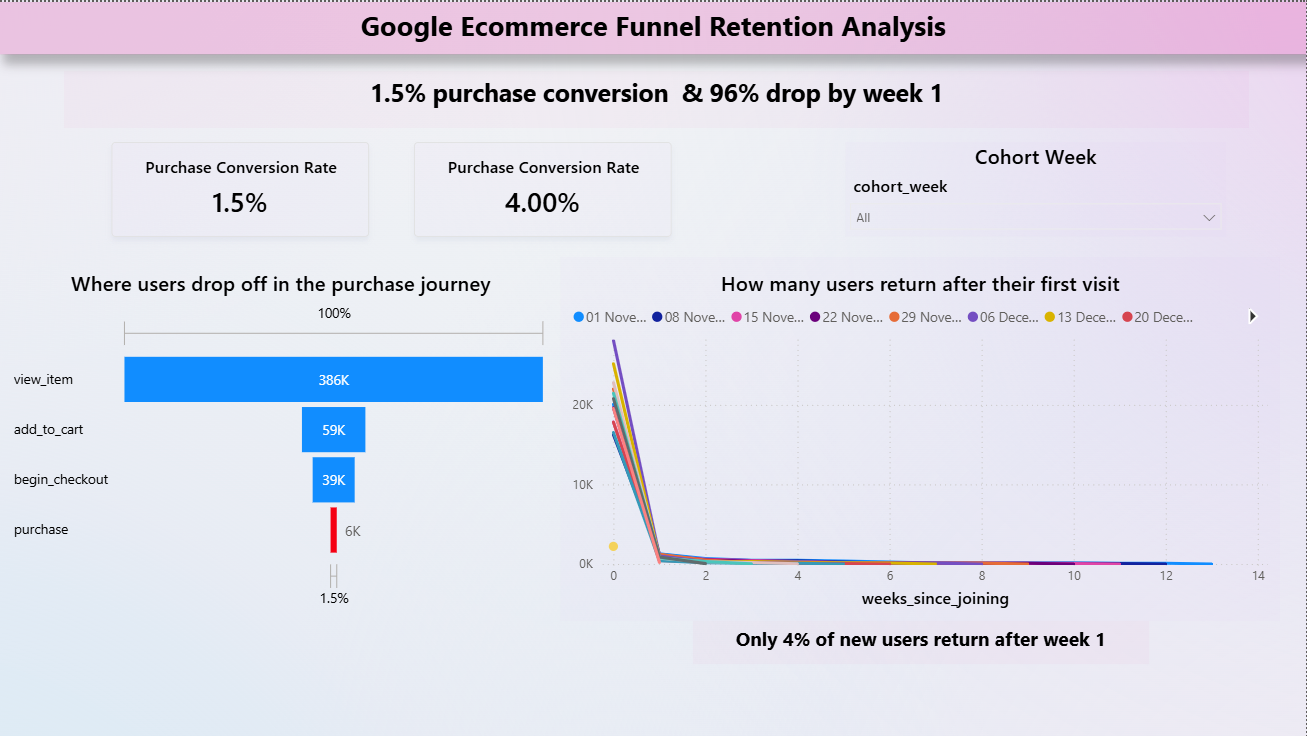

Layout of this report page (visuals, bound fields, positions):
{"tool":"powerbi","page":{"name":"Page 1","canvas":[1280,720],"ordinal":0},"visuals":[{"type":"funnel","title":"Where users drop off in the purchase journey","fields":{"Category":["funnel_results.event_name"],"Y":["Sum(funnel_results.event_count)"]},"box":[2.4,249.5,546.6,355.8],"z":0},{"type":"lineChart","title":"How many users return after their first visit","fields":{"Y":["Sum(retention_results.active_users)"],"Category":["retention_results.weeks_since_joining"],"Series":["retention_results.cohort_week"]},"box":[549.1,249.5,704.4,355.8],"z":1000},{"type":"slicer","title":"Cohort Week","fields":{"Values":["retention_results.cohort_week"]},"box":[827.9,137,373,92.9],"z":2000},{"type":"textbox","box":[678.7,605.3,446.3,42.8],"z":3000},{"type":"card","title":"Purchase Conversion Rate","fields":{"Values":["funnel_results.Conversion %"]},"box":[110.1,137,251.9,92.9],"z":5000},{"type":"textbox","box":[63.6,67.3,1159.2,56.3],"z":5002},{"type":"textbox","box":[0,0,1280.3,51.4],"z":5003},{"type":"card","title":"Purchase Conversion Rate","fields":{"Values":["funnel_results.Week 1 Retention %"]},"box":[406,137,251.9,92.9],"z":5004}]}

Visuals, with their boxes in screenshot pixels (x1, y1, x2, y2), scaled from the page's 1280x720 canvas onto the 1307x736 screenshot:
"Where users drop off in the purchase journey" funnel: {"left": 2, "top": 255, "right": 561, "bottom": 619}
"How many users return after their first visit" lineChart: {"left": 561, "top": 255, "right": 1280, "bottom": 619}
"Cohort Week" slicer: {"left": 845, "top": 140, "right": 1226, "bottom": 235}
textbox: {"left": 693, "top": 619, "right": 1149, "bottom": 663}
"Purchase Conversion Rate" card: {"left": 112, "top": 140, "right": 370, "bottom": 235}
textbox: {"left": 65, "top": 69, "right": 1249, "bottom": 126}
textbox: {"left": 0, "top": 0, "right": 1306, "bottom": 53}
"Purchase Conversion Rate" card: {"left": 415, "top": 140, "right": 672, "bottom": 235}
